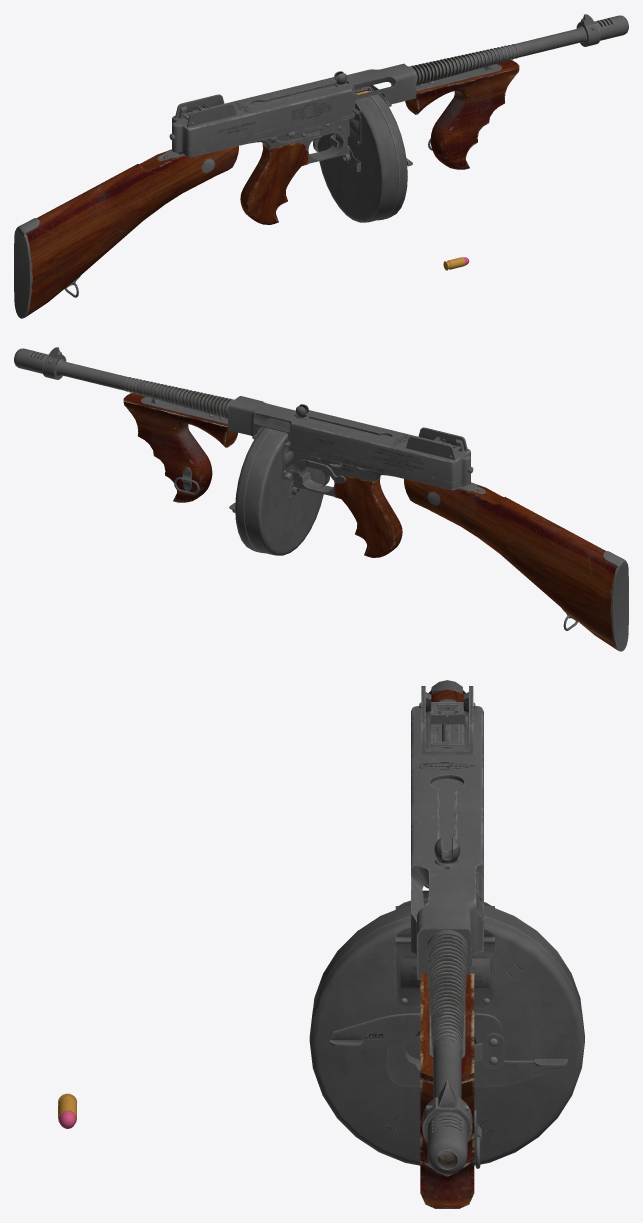
Rendered from tommy_gun.glb.
3 renders of one model, top to bottom at view 1: azimuth 30°, elevation 25°; view 2: azimuth 150°, elevation 25°; view 3: azimuth 270°, elevation 25°, orthographic. The views are drawn at different scales.
Visible parts, largest first — view 1: stock_low_Material #26_0, base_low_Material #26_0, magB_low_Material #31_0, gripF_low_Material #26_0, barrel_low_Material #26_0, gripB_low_Material #26_0, stockPlate_low_Material #26_0, magF_low_Material #31_0, sightBase_low_Material #26_0, magBackPlate_low_Material #31_0; view 2: stock_low_Material #26_0, base_low_Material #26_0, magB_low_Material #31_0, gripF_low_Material #26_0, barrel_low_Material #26_0, gripB_low_Material #26_0, stockPlate_low_Material #26_0, magF_low_Material #31_0, sightBase_low_Material #26_0, triggerPlate2_low; view 3: magF_low_Material #31_0, base_low_Material #26_0, barrel_low_Material #26_0, magOpen_low, gripF_low_Material #26_0, magFrontPlate_low_Material #31_0, magB_low_Material #31_0, sightBase_low_Material #26_0, magPart1_low_Material #31_0.
Boxes of the visible parts, x1,y1,x2,y2 form: stock_low_Material #26_0: (26,146,238,316); base_low_Material #26_0: (172,63,501,163); magB_low_Material #31_0: (317,88,398,222); gripF_low_Material #26_0: (405,60,519,169); barrel_low_Material #26_0: (408,15,628,85); gripB_low_Material #26_0: (240,142,308,224); stockPlate_low_Material #26_0: (14,218,39,318); magF_low_Material #31_0: (355,86,407,220); sightBase_low_Material #26_0: (175,94,236,126); magBackPlate_low_Material #31_0: (347,102,361,145); stock_low_Material #26_0: (404,479,616,649); base_low_Material #26_0: (141,396,470,496); magB_low_Material #31_0: (244,429,325,555); gripF_low_Material #26_0: (123,393,237,502); barrel_low_Material #26_0: (14,348,233,418); gripB_low_Material #26_0: (334,475,402,557); stockPlate_low_Material #26_0: (603,551,628,651); magF_low_Material #31_0: (235,427,272,553); sightBase_low_Material #26_0: (406,427,467,459); triggerPlate2_low: (292,459,345,483); magF_low_Material #31_0: (309,916,584,1165); base_low_Material #26_0: (411,699,483,1058); barrel_low_Material #26_0: (422,930,472,1174); magOpen_low: (330,1013,567,1087); gripF_low_Material #26_0: (420,973,474,1208); magFrontPlate_low_Material #31_0: (395,926,494,1007); magB_low_Material #31_0: (313,902,581,1008); sightBase_low_Material #26_0: (421,686,473,754); magPart1_low_Material #31_0: (474,1033,504,1068).
Size of the model in its own units: 0.8463 by 0.2252 by 0.3186.
Materials: 3 (3 with a texture image).
